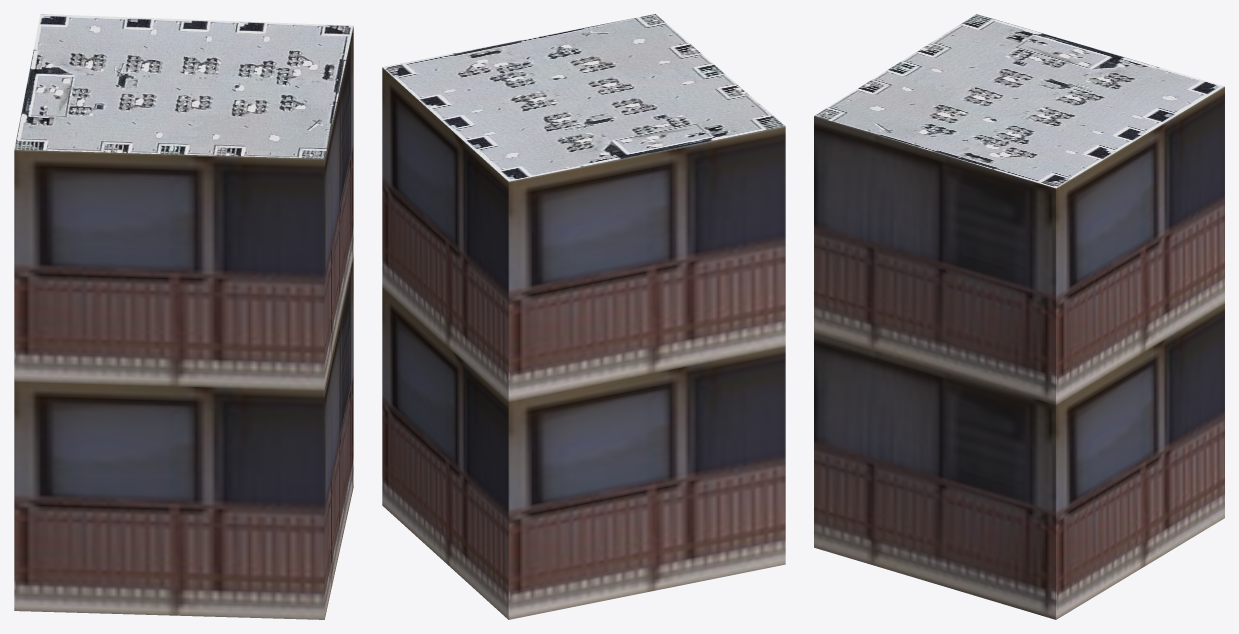
The model's file is ResTex__4932.fbx.
3 renders of one model, left to right at view 1: azimuth 30°, elevation 25°; view 2: azimuth 150°, elevation 25°; view 3: azimuth 270°, elevation 25°, orthographic. The views are drawn at different scales.
Parts seen in each view (by area): view 1: CityEngineMaterial_6_m, CityEngineMaterial_m; view 2: CityEngineMaterial_6_m, CityEngineMaterial_m; view 3: CityEngineMaterial_6_m, CityEngineMaterial_m.
Boxes of the visible parts, x1,y1,x2,y2 form: CityEngineMaterial_6_m: [14, 27, 353, 619]; CityEngineMaterial_m: [14, 14, 353, 158]; CityEngineMaterial_6_m: [382, 67, 785, 619]; CityEngineMaterial_m: [382, 14, 785, 181]; CityEngineMaterial_6_m: [814, 86, 1224, 619]; CityEngineMaterial_m: [814, 14, 1224, 188].
Size of the model in its own units: 5.2 by 6 by 5.18.
2 materials, 2 textured.
